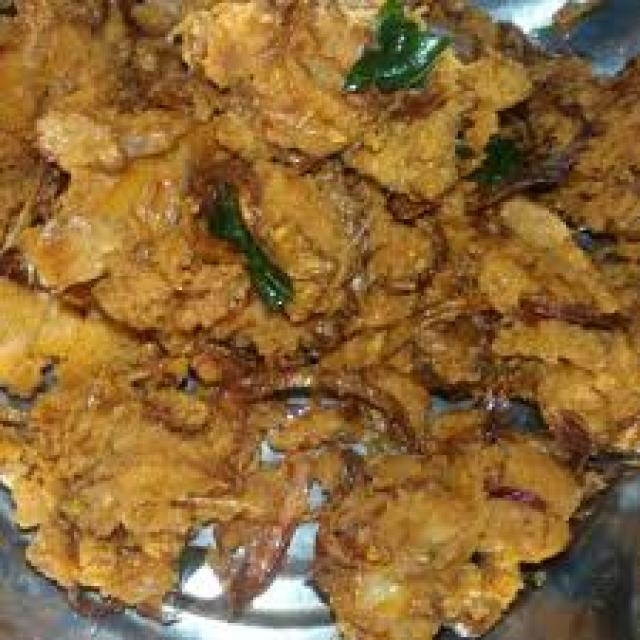BAJI: (0, 0, 637, 637)
